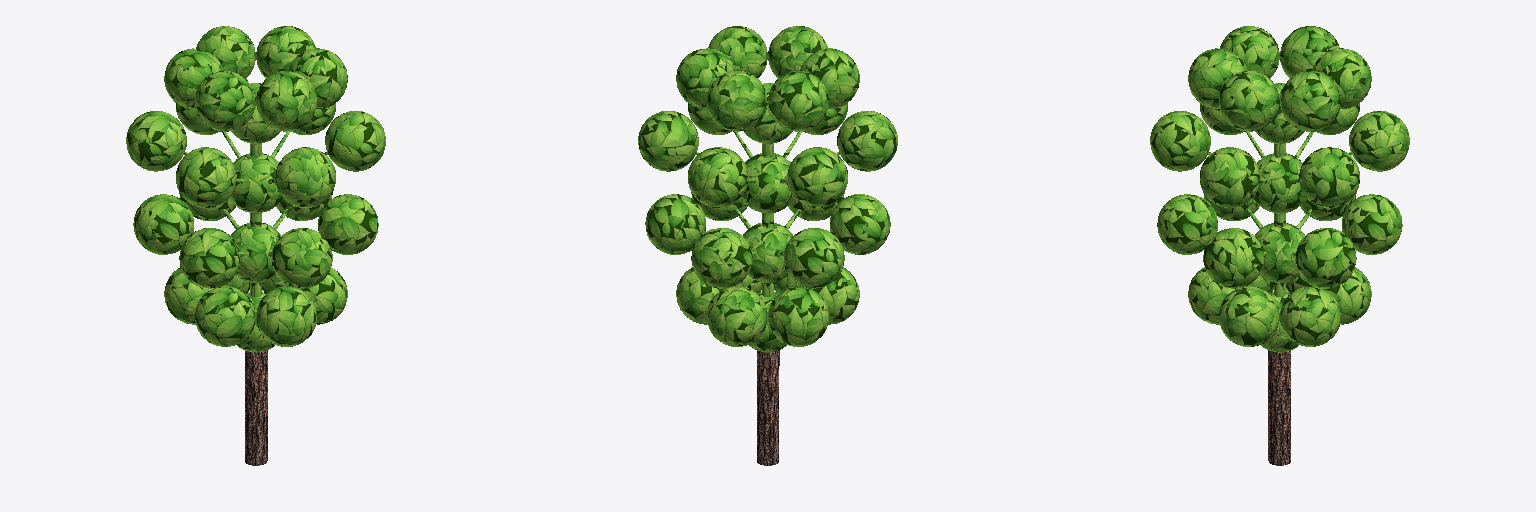
3 renders of one model, left to right at view 1: azimuth 30°, elevation 25°; view 2: azimuth 150°, elevation 25°; view 3: azimuth 270°, elevation 25°, orthographic.
Visible parts, largest first — view 1: node_id3, Object001; view 2: node_id3, Object001; view 3: node_id3, Object001.
Boxes of the visible parts, box(x1,y1,x2,y2) form: node_id3: box(126, 26, 385, 352); Object001: box(245, 350, 267, 465); node_id3: box(638, 26, 897, 352); Object001: box(757, 350, 779, 465); node_id3: box(1150, 26, 1409, 352); Object001: box(1268, 350, 1290, 465).
Bounding box in the file's own units: 0.2646 × 0.512 × 0.2947.
Materials: 2 (2 with a texture image).